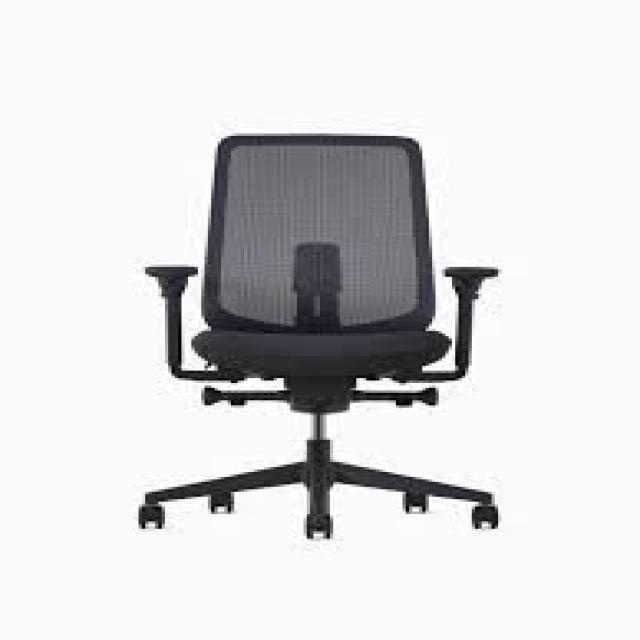chair: (88, 97, 547, 612)
